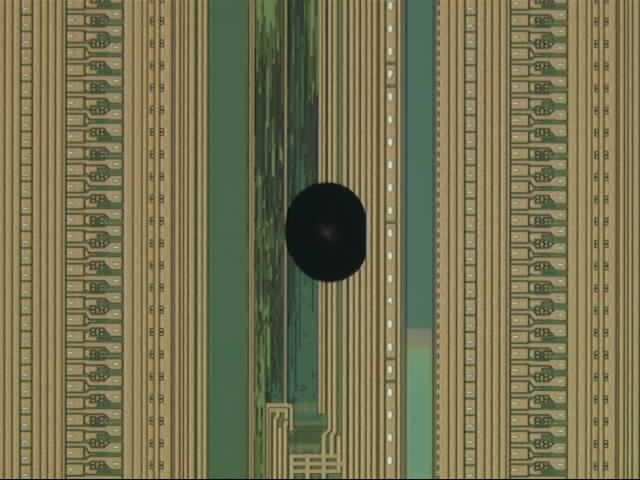PO CONTAMINATION: (284, 179, 374, 287)
